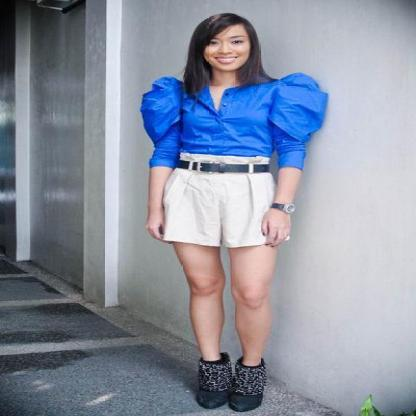shirt: (140, 75, 328, 169)
shoe: (185, 358, 266, 410)
shorts: (148, 143, 272, 247)
